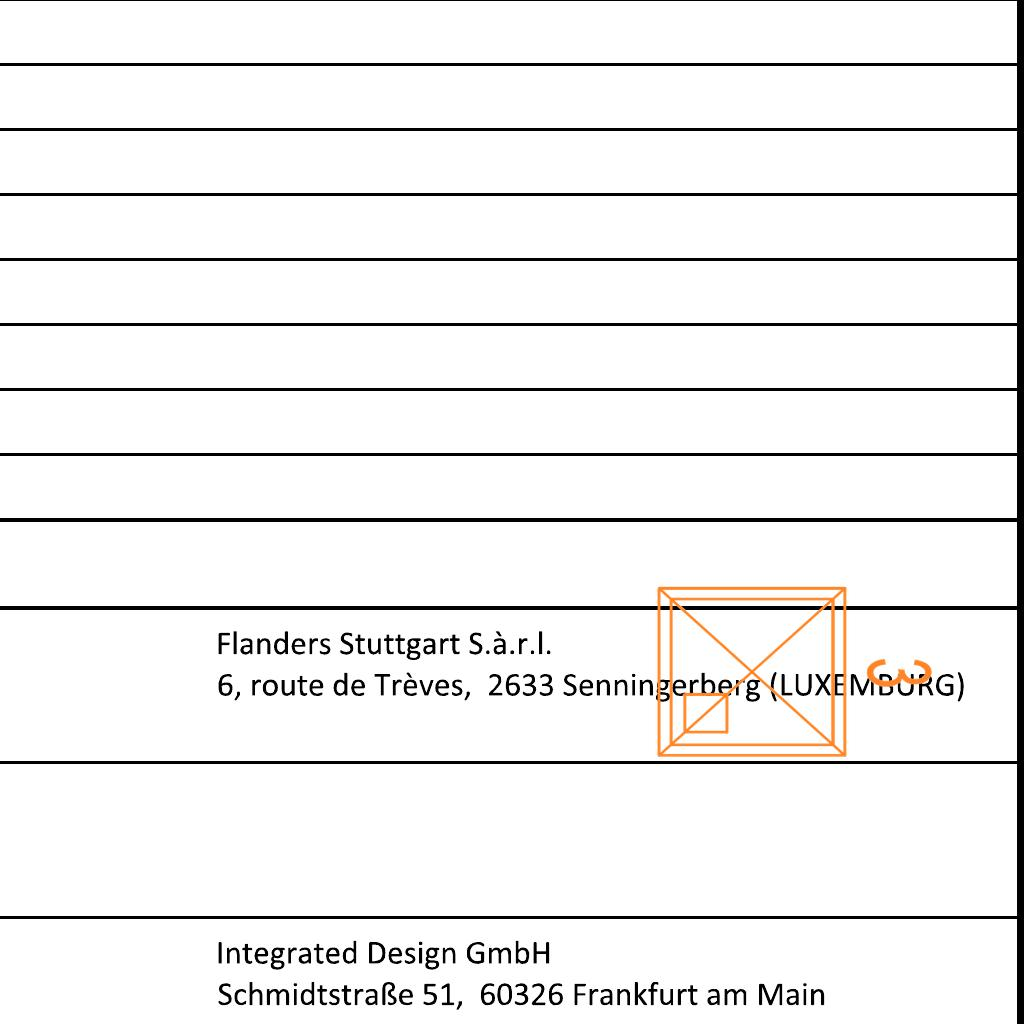Einbaudownlights_LED_Konferenzraeume: (643, 564, 943, 772)
